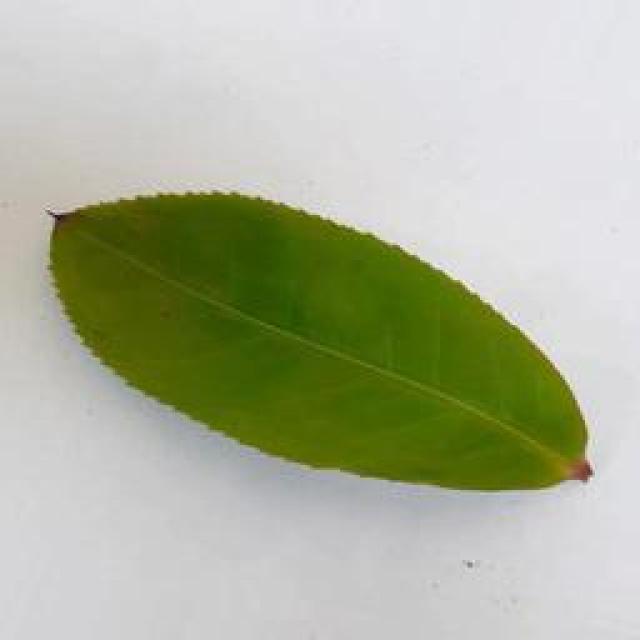Healthy: (41, 189, 589, 492)
